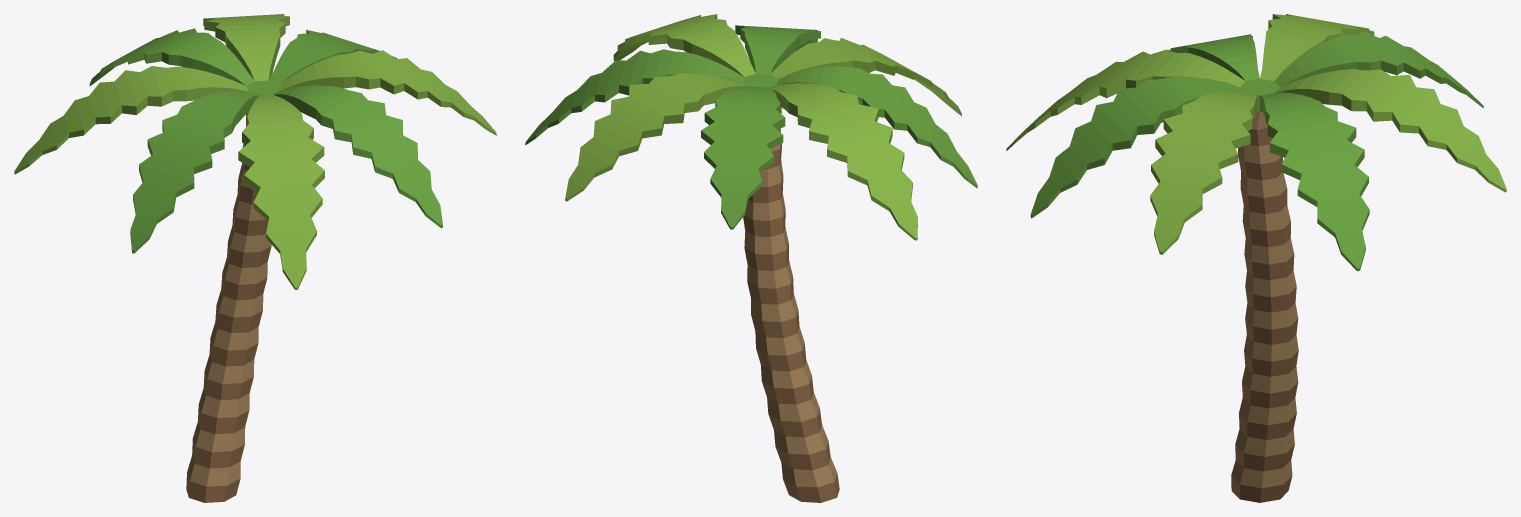
Rendered from NEW_RECOVERY_026_LOD0.fbx.
3 views of the same model, side by side, from view 1: azimuth 30°, elevation 25°; view 2: azimuth 150°, elevation 25°; view 3: azimuth 270°, elevation 25° (orthographic). The views are drawn at different scales.
Visible parts, largest first — view 1: Whole_Palm; view 2: Whole_Palm; view 3: Whole_Palm.
Part boxes in pixels (x1,y1,x2,y2): Whole_Palm: (14, 14, 496, 502); Whole_Palm: (525, 14, 977, 502); Whole_Palm: (1006, 14, 1506, 502).
Bounding box in the file's own units: 384 × 387 × 388.
